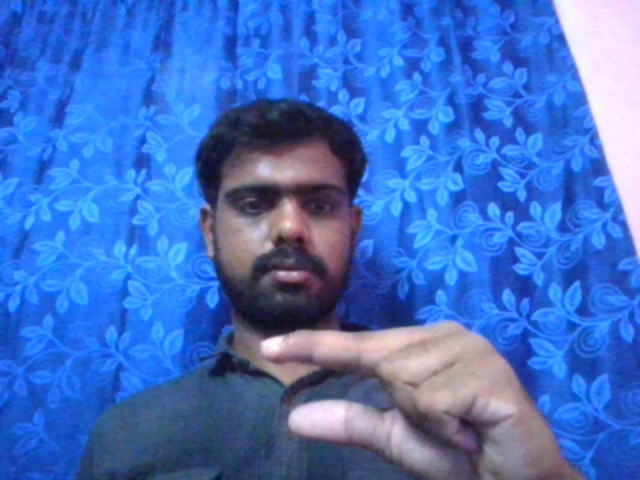No: (251, 291, 567, 474)
